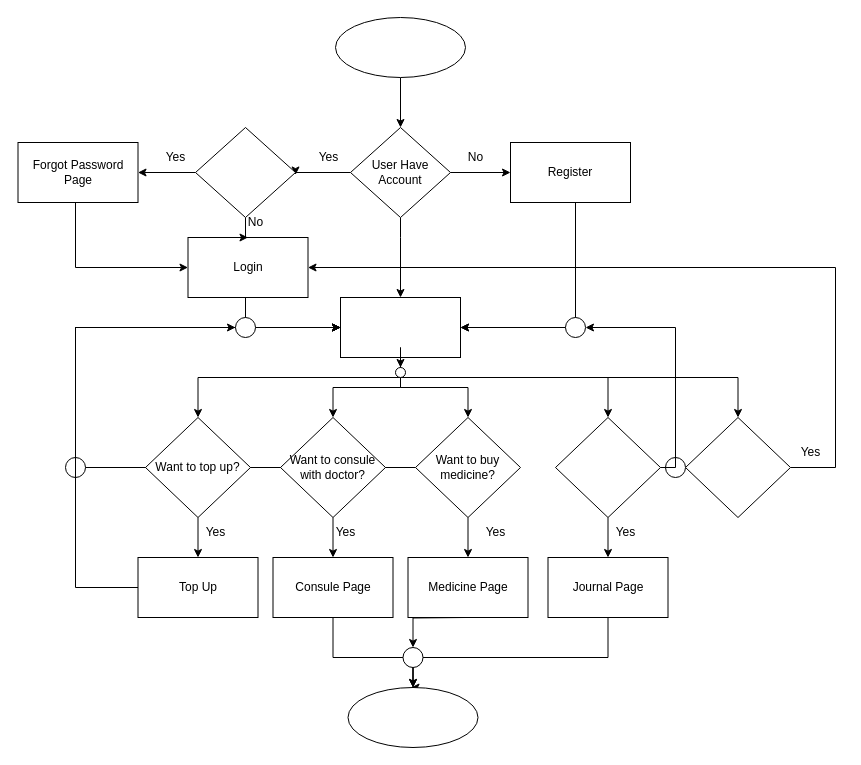
The diagram is 861 pixels wide and 765 high, and some of its shapes have lost their labels. Each missing label, with the centre of its shape:
"END" belongs at point 412,717.
"Forgot Password?" belongs at point 245,172.
"Profile Page" belongs at point 400,327.
"START" belongs at point 400,47.
"Want to log out?" belongs at point 737,467.
"Want to write journal?" belongs at point 607,467.
